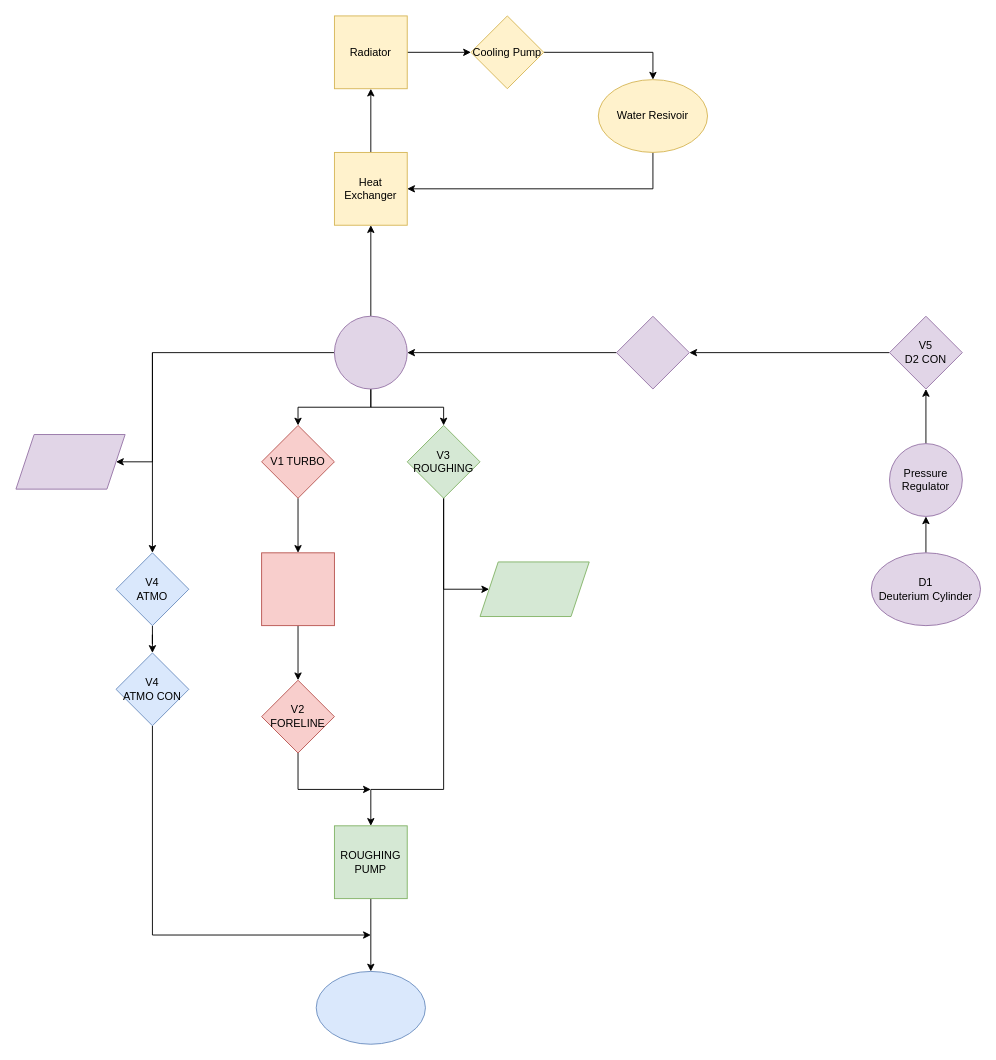
This 996x1060 diagram has some shape labels left out. The centre of each missing label's shape, as x and y in pixels:
"Atmosphere" goes at point 370,1007.
"Gauge 1 Roughing Gauge" goes at point 534,589.
"Gauge 2 Reactor Pressure" goes at point 70,461.
"Reaction Chamber" goes at point 370,352.
"TURBO PUMP" goes at point 297,589.
"V6 D2 Needle Valve" goes at point 652,352.
